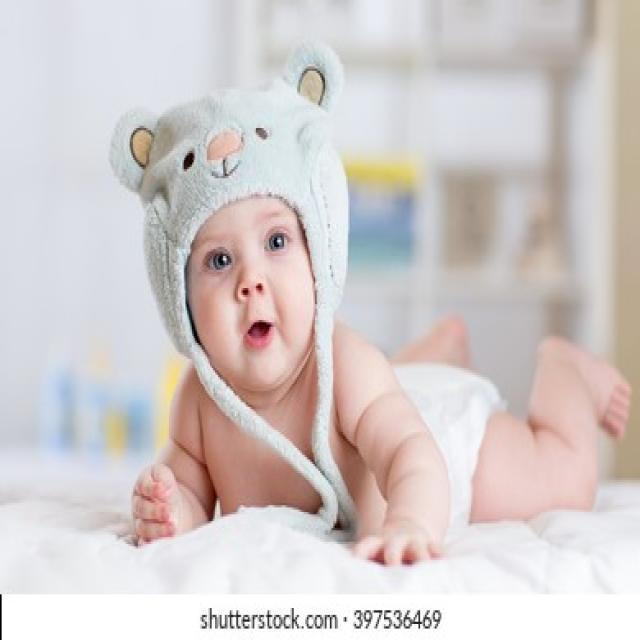non-dog: (104, 38, 633, 568)
